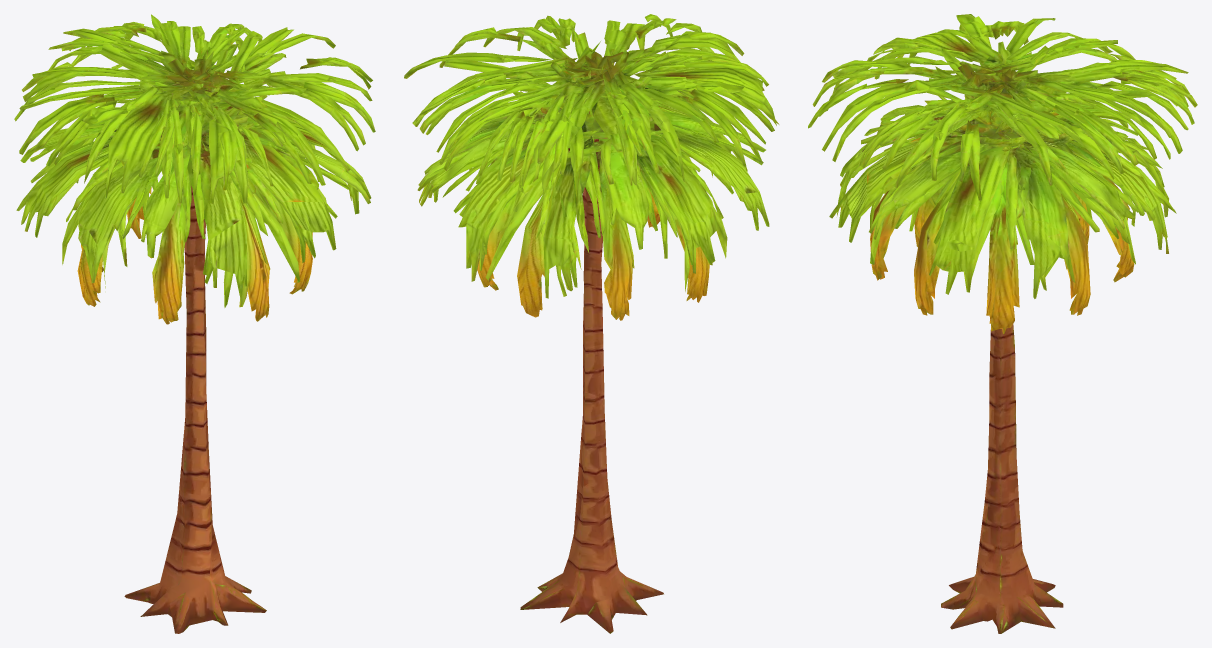
File: palm_desert.glb
3 renders of one model, left to right at view 1: azimuth 30°, elevation 25°; view 2: azimuth 150°, elevation 25°; view 3: azimuth 270°, elevation 25°, orthographic.
Bounding box in the file's own units: 0.9863 × 1.55 × 1.01.
Materials: 1 (1 with a texture image).
